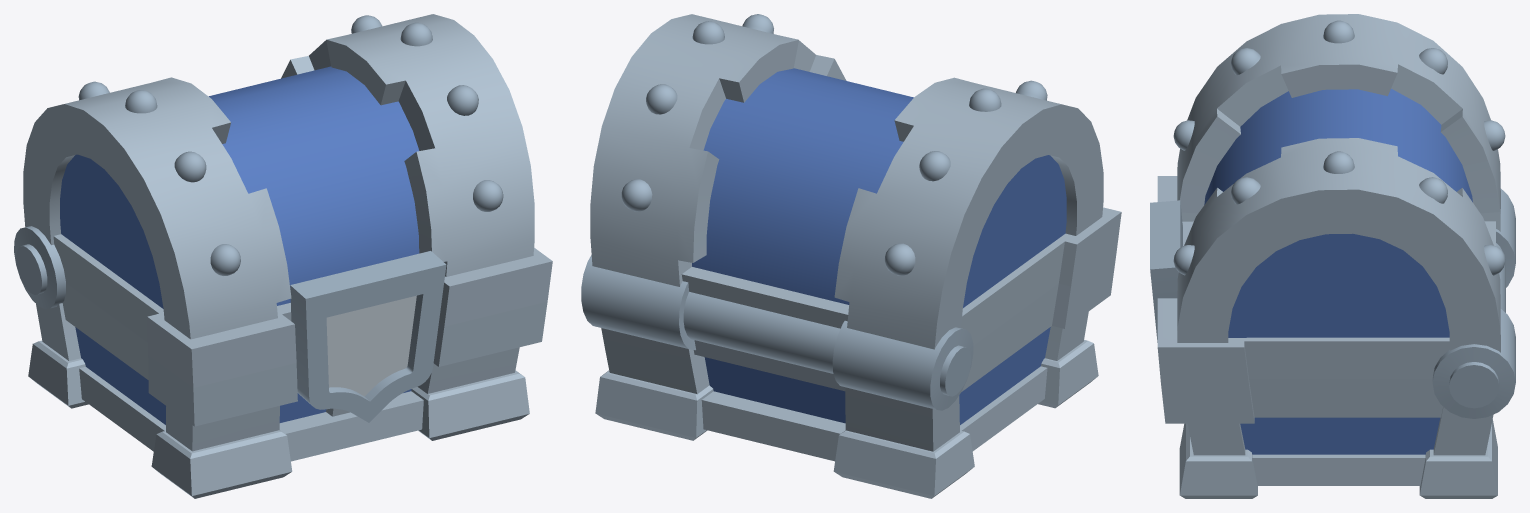
File: Chest G Multi.fbx
3 renders of one model, left to right at view 1: azimuth 30°, elevation 25°; view 2: azimuth 150°, elevation 25°; view 3: azimuth 270°, elevation 25°, orthographic. The views are drawn at different scales.
Parts seen in each view (by area): view 1: Chest G Cover, Chest G, Chest G Icon; view 2: Chest G Cover, Chest G; view 3: Chest G Cover, Chest G, Chest G Icon.
Boxes of the visible parts, x1=… form: Chest G Cover: x1=14, y1=14, x2=552, y2=387; Chest G: x1=28, y1=283, x2=547, y2=498; Chest G Icon: x1=290, y1=251, x2=446, y2=422; Chest G Cover: x1=581, y1=14, x2=1121, y2=410; Chest G: x1=595, y1=254, x2=1116, y2=498; Chest G Cover: x1=1157, y1=14, x2=1515, y2=418; Chest G: x1=1161, y1=379, x2=1497, y2=498; Chest G Icon: x1=1150, y1=200, x2=1182, y2=342.
Size of the model in its own units: 2.93 by 2.6 by 2.58.
